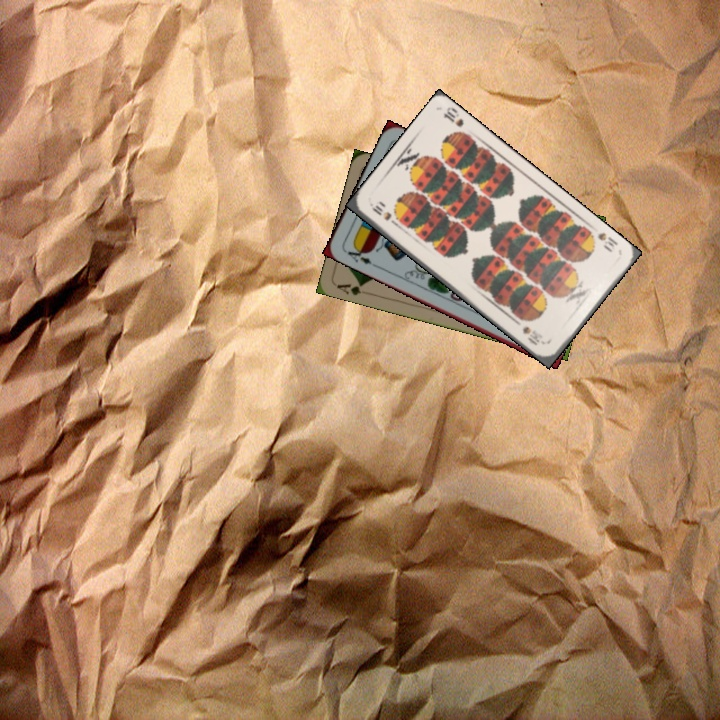EA: (343, 242, 379, 270)
GA: (332, 279, 366, 298)
S10: (366, 199, 401, 229), (593, 228, 620, 255)
